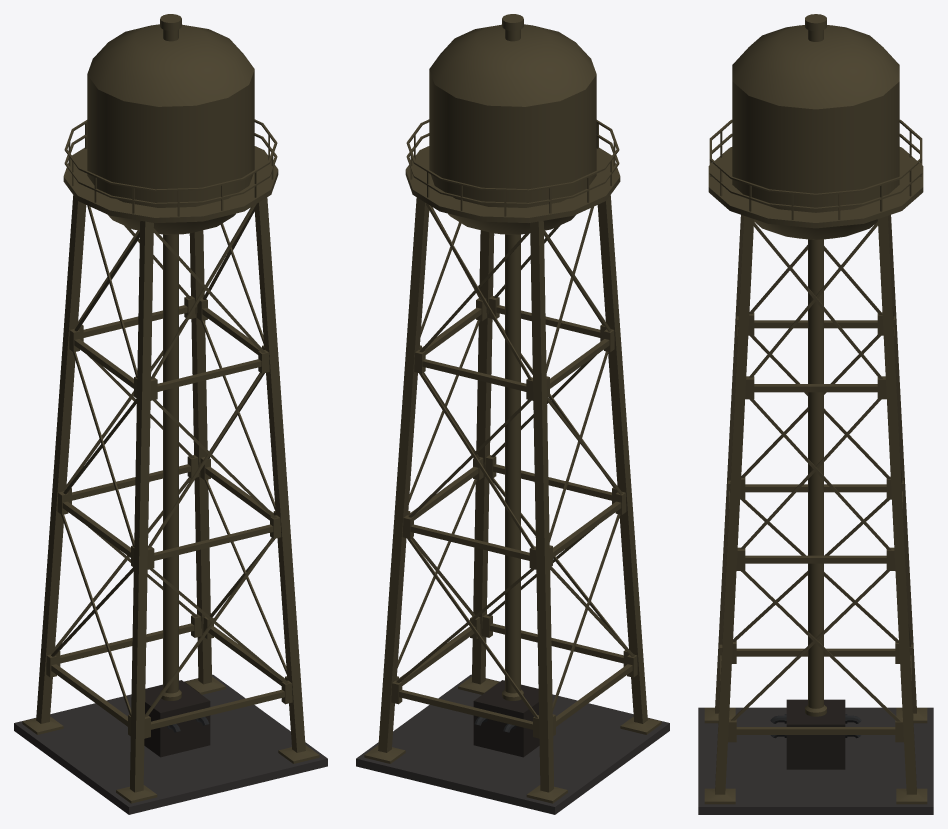
The model's file is Water Tower Scanline.FBX.
3 views of the same model, side by side, from view 1: azimuth 30°, elevation 25°; view 2: azimuth 150°, elevation 25°; view 3: azimuth 270°, elevation 25° (orthographic). The views are drawn at different scales.
Parts seen in each view (by area): view 1: Water Tower; view 2: Water Tower; view 3: Water Tower.
Part boxes in pixels (left/top/right/bottom): Water Tower: left=14, top=14, right=327, bottom=814; Water Tower: left=356, top=14, right=669, bottom=814; Water Tower: left=698, top=14, right=933, bottom=814.
Bounding box in the file's own units: 8 × 28.04 × 8.
